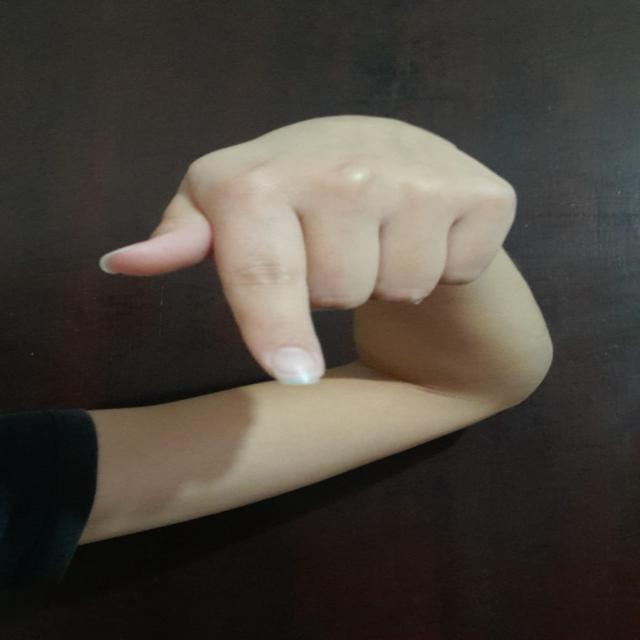Q: (89, 110, 527, 396)
